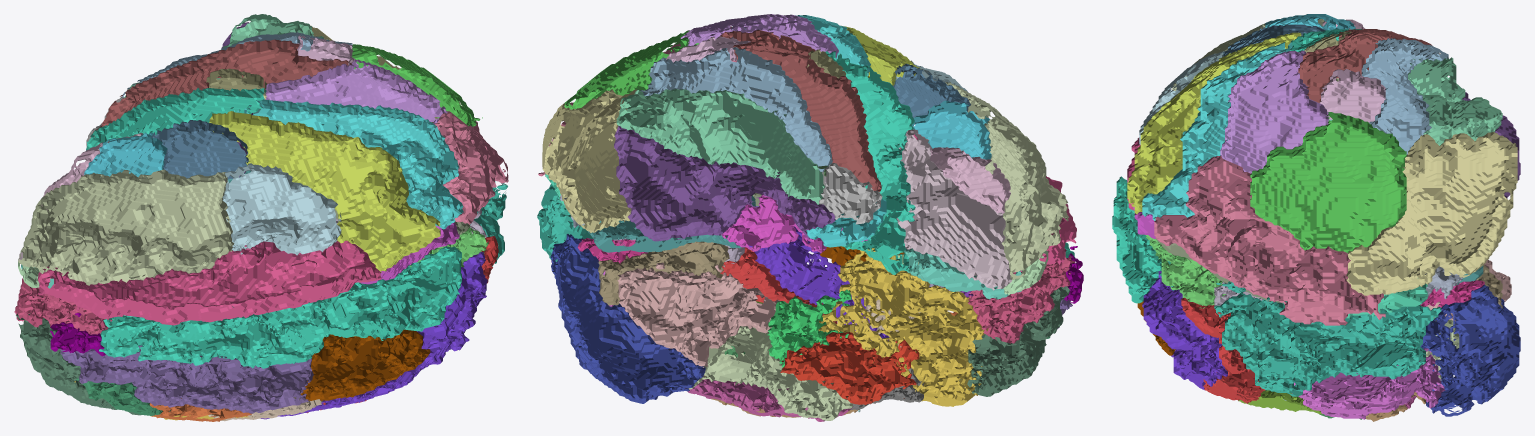
Rendered from wmparc.glb.
3 renders of one model, left to right at view 1: azimuth 30°, elevation 25°; view 2: azimuth 150°, elevation 25°; view 3: azimuth 270°, elevation 25°, orthographic. The views are drawn at different scales.
Parts seen in each view (by area): view 1: 3027_wm-lh-rostralmiddlefrontal, 2028_ctx-rh-superiorfrontal, 3028_wm-lh-superiorfrontal, 3024_wm-lh-precentral, 2027_ctx-rh-rostralmiddlefrontal, 3022_wm-lh-postcentral, 3003_wm-lh-caudalmiddlefrontal, 3030_wm-lh-superiortemporal, 2003_ctx-rh-caudalmiddlefrontal, 3031_wm-lh-supramarginal, 3035_wm-lh-insula, 2024_ctx-rh-precentral (+19 smaller); view 2: 2035_ctx-rh-insula, 3007_wm-lh-fusiform, 3009_wm-lh-inferiortemporal, 2011_ctx-rh-lateraloccipital, 2013_ctx-rh-lingual, 3012_wm-lh-lateralorbitofrontal, 3011_wm-lh-lateraloccipital, 3027_wm-lh-rostralmiddlefrontal, 3015_wm-lh-middletemporal, 3035_wm-lh-insula, 3030_wm-lh-superiortemporal, 2006_ctx-rh-entorhinal (+29 smaller); view 3: 3011_wm-lh-lateraloccipital, 3029_wm-lh-superiorparietal, 3008_wm-lh-inferiorparietal, 2029_ctx-rh-superiorparietal, 2011_ctx-rh-lateraloccipital, 3031_wm-lh-supramarginal, 3024_wm-lh-precentral, 3022_wm-lh-postcentral, 2008_ctx-rh-inferiorparietal, 3015_wm-lh-middletemporal, 2024_ctx-rh-precentral, 3009_wm-lh-inferiortemporal (+20 smaller).
Boxes of the visible parts, x1,y1,x2,y2 form: 3027_wm-lh-rostralmiddlefrontal: (18,169,234,285); 2028_ctx-rh-superiorfrontal: (99,246,461,368); 3028_wm-lh-superiorfrontal: (38,239,382,325); 3024_wm-lh-precentral: (209,111,440,272); 2027_ctx-rh-rostralmiddlefrontal: (60,345,313,413); 3022_wm-lh-postcentral: (234,99,463,229); 3003_wm-lh-caudalmiddlefrontal: (222,163,342,255); 3030_wm-lh-superiortemporal: (92,39,351,136); 2003_ctx-rh-caudalmiddlefrontal: (300,329,430,400); 3031_wm-lh-supramarginal: (265,59,447,123); 3035_wm-lh-insula: (86,88,266,149); 2024_ctx-rh-precentral: (260,252,487,419); 2035_ctx-rh-insula: (818,248,988,406); 3007_wm-lh-fusiform: (614,125,835,241); 3009_wm-lh-inferiortemporal: (616,89,825,204); 2011_ctx-rh-lateraloccipital: (550,234,705,403); 2013_ctx-rh-lingual: (617,262,780,367); 3012_wm-lh-lateralorbitofrontal: (896,129,1011,290); 3011_wm-lh-lateraloccipital: (542,89,636,232); 3027_wm-lh-rostralmiddlefrontal: (945,82,1068,279); 3015_wm-lh-middletemporal: (640,47,833,172); 3035_wm-lh-insula: (825,51,915,274); 3030_wm-lh-superiortemporal: (720,30,881,192); 2006_ctx-rh-entorhinal: (780,332,919,404); 3011_wm-lh-lateraloccipital: (1346,131,1517,295); 3029_wm-lh-superiorparietal: (1154,156,1385,325); 3008_wm-lh-inferiorparietal: (1250,112,1406,253); 2029_ctx-rh-superiorparietal: (1214,281,1441,396); 2011_ctx-rh-lateraloccipital: (1420,284,1520,416); 3031_wm-lh-supramarginal: (1220,50,1328,173); 3024_wm-lh-precentral: (1127,32,1301,214); 3022_wm-lh-postcentral: (1142,41,1292,220); 2008_ctx-rh-inferiorparietal: (1292,348,1445,419); 3015_wm-lh-middletemporal: (1361,38,1448,154); 2024_ctx-rh-precentral: (1142,271,1227,390); 3009_wm-lh-inferiortemporal: (1408,57,1502,145).
Bounding box in the file's own units: 185 × 129 × 136.
